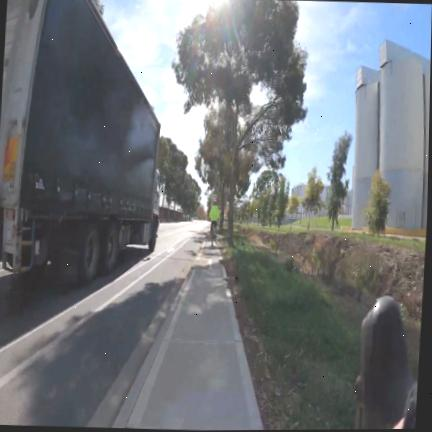Bike_Lane: (0, 233, 203, 428)
